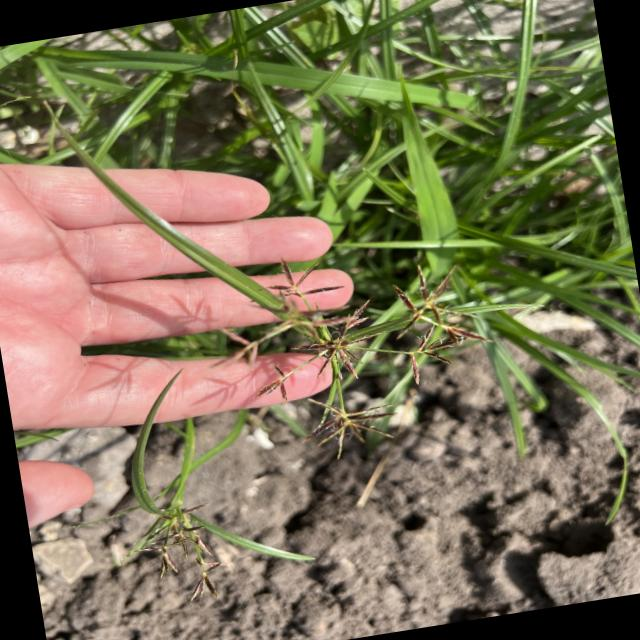cyperus: (214, 238, 506, 484), (114, 490, 244, 624)
